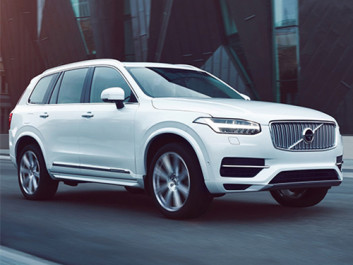pickup: (7, 57, 343, 219)
